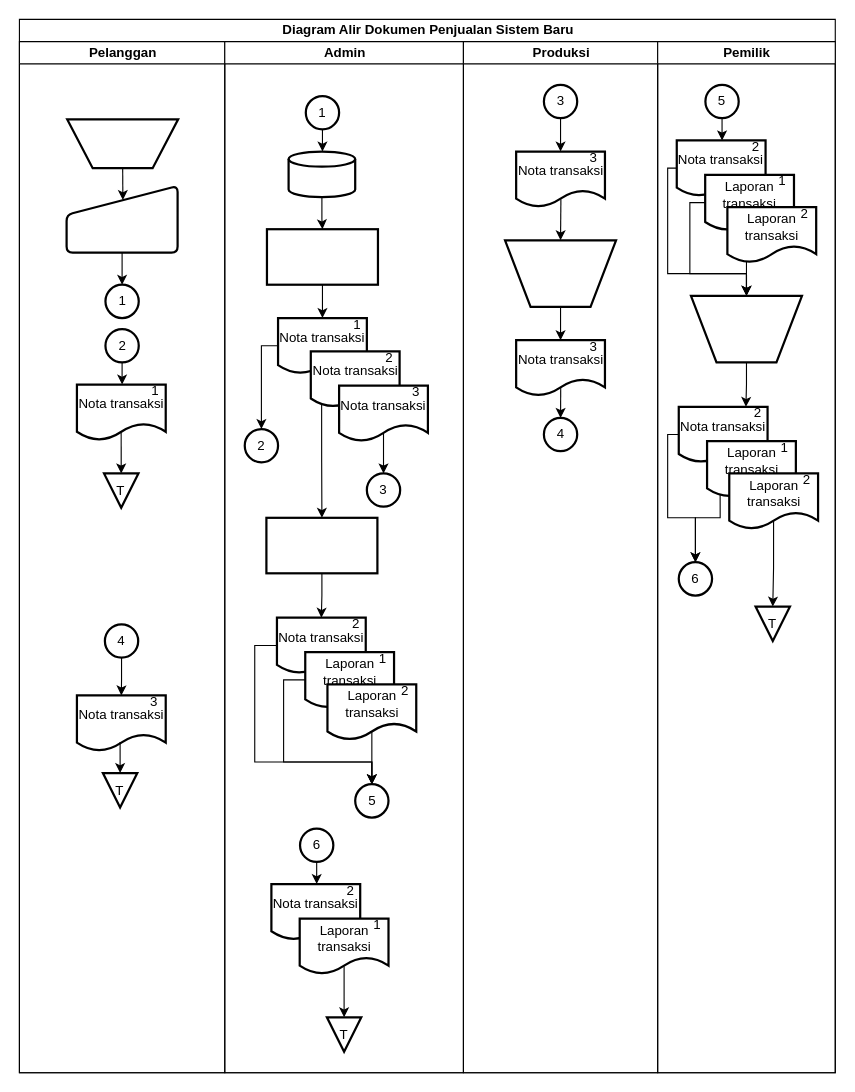
This 855x1092 diagram has some shape labels left out. The centre of each missing label's shape, as x and y in pixels:
"Database" belongs at pixel 321 174.
"Input pesanan dan pembayaran" belongs at pixel 121 218.
"Membuatkan pesanan" belongs at pixel 560 273.
"Mengunjungi website" belongs at pixel 122 143.
"Pembuatan laporan transaksi" belongs at pixel 321 545.
"Pembuatan Nota" belongs at pixel 322 256.
"Pengecekan laporan transaksi" belongs at pixel 746 328.
